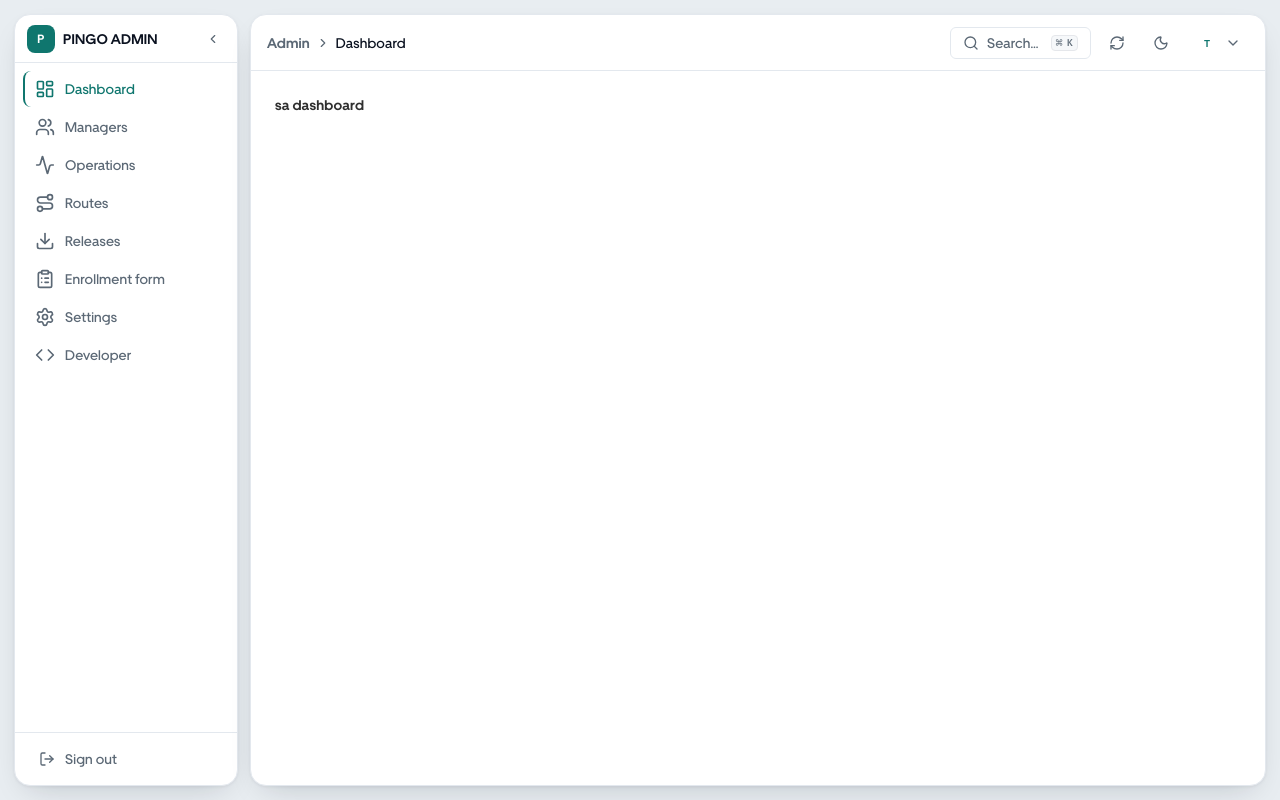
Test: AppShell › toggles theme via the theme button
Click the button named "switch to dark mode".
click(1161, 42)  # box [1143, 24, 1179, 60]
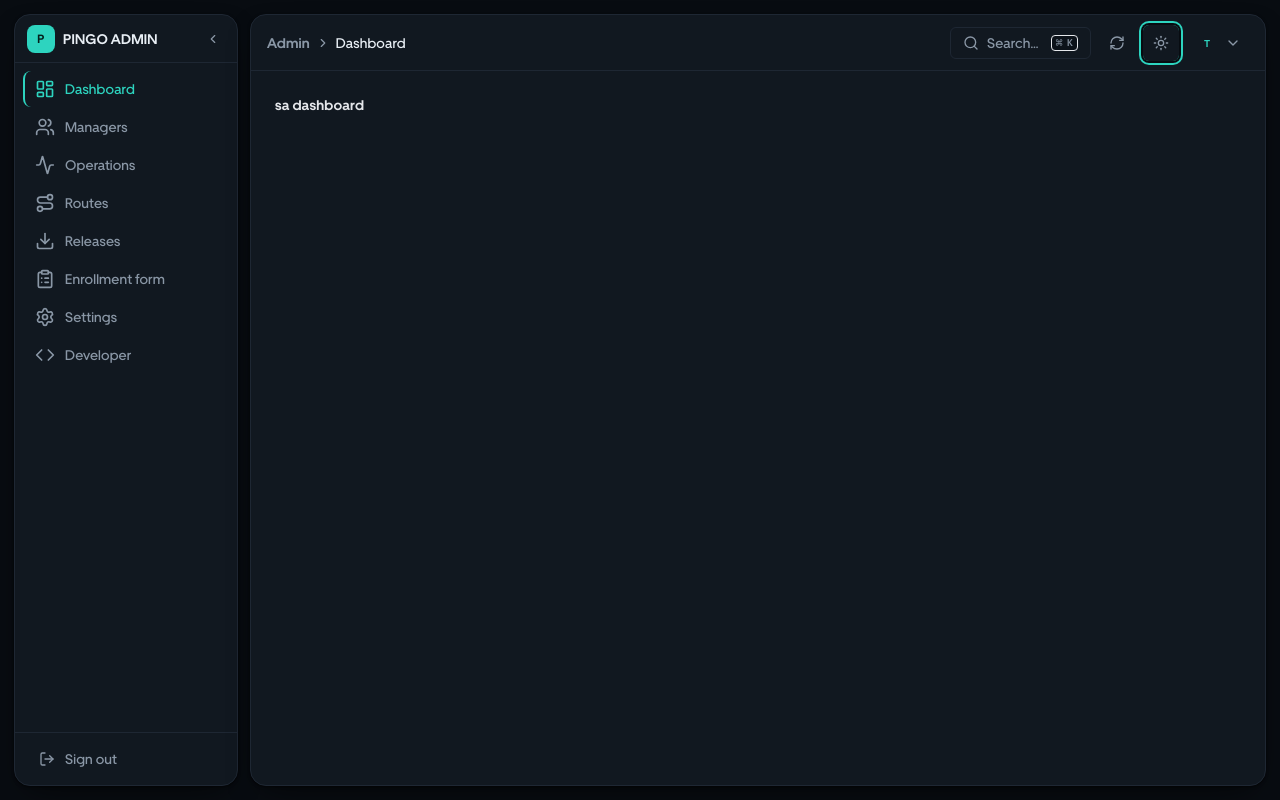
Result: the button named "switch to light mode" is shown at [1143, 24, 1179, 60]
